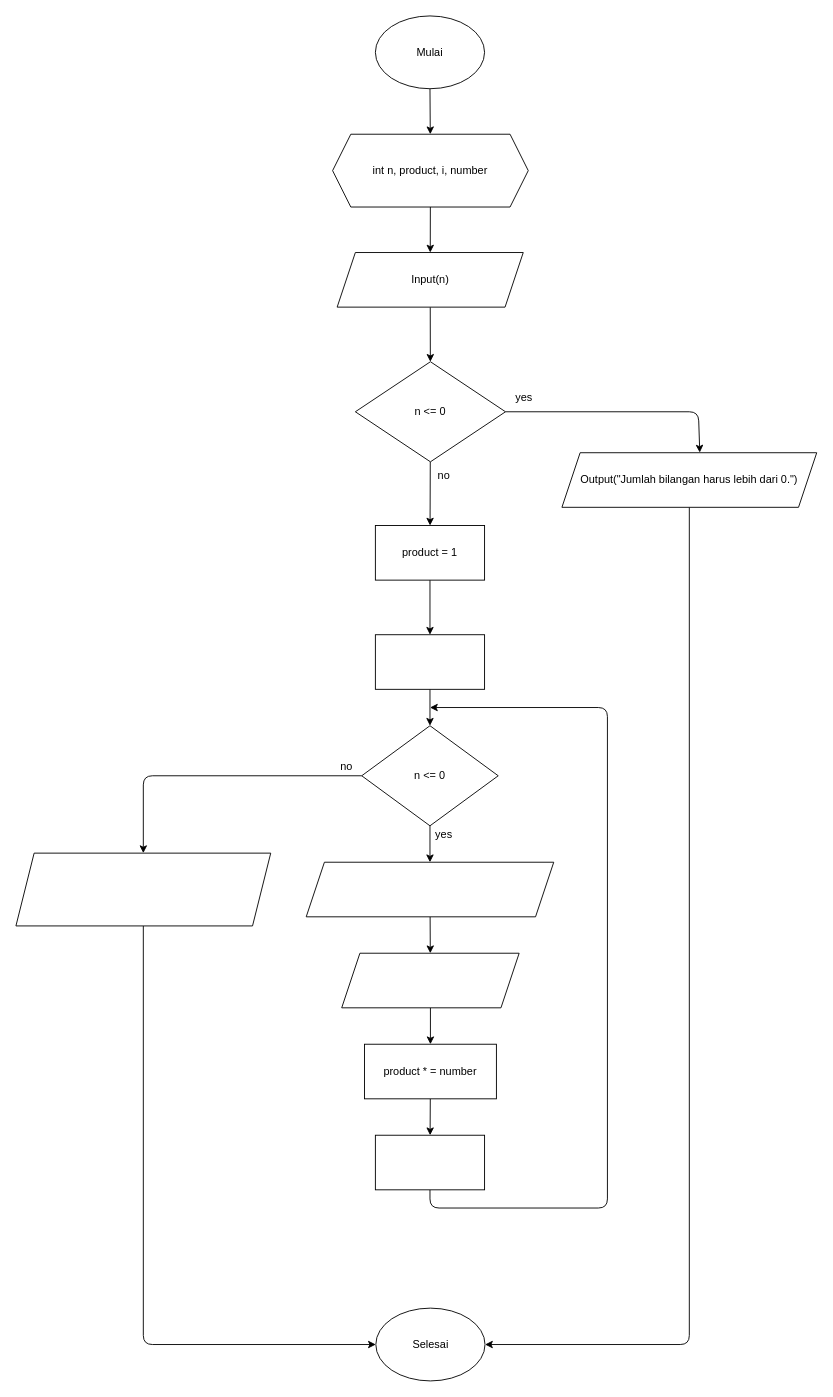
This 833x1397 diagram has some shape labels left out. The box of each missing label's shape, as (x1, y1, x2, y2) in pixels:
i = 1: (374, 634, 485, 689)
i++: (374, 1134, 485, 1190)
Input(number): (341, 952, 519, 1008)
Output("Hasil perkalian dari " + n + "bilangan adalah: " + product): (15, 852, 271, 926)
Output("Masukkan bilangan ke-" + i + ": "): (305, 861, 554, 917)
